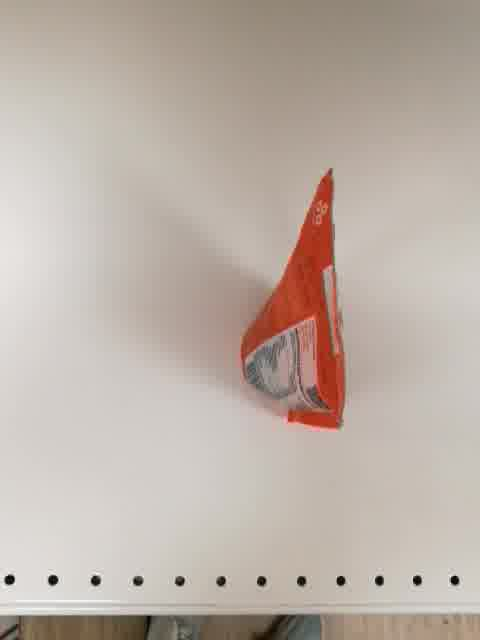whitechia: (237, 164, 349, 435)
